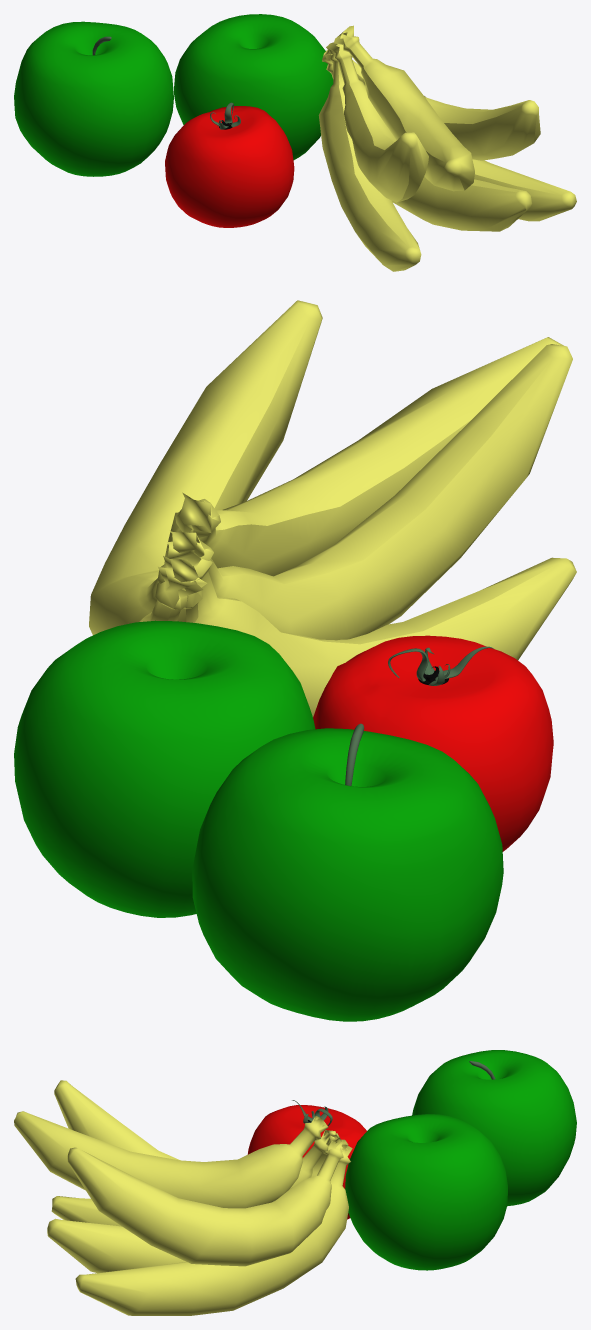
File: fruitAndvegetable.fbx
The picture shows the model from 3 angles, top to bottom: view 1: azimuth 30°, elevation 25°; view 2: azimuth 150°, elevation 25°; view 3: azimuth 270°, elevation 25°; orthographic projection. The views are drawn at different scales.
Visible parts, largest first — view 1: Sphere07, Sphere06, tomatos, banan07, banan11, banan05, banan10, banan08, banan09; view 2: Sphere07, Sphere06, banan05, tomatos, banan08, banan11, banan07, banan09; view 3: Sphere06, banan08, Sphere07, banan09, banan11, banan10, banan05, tomatos, banan07.
Part boxes in pixels (x1,y1,x2,y2): Sphere07: (14,21,173,176); Sphere06: (174,14,333,159); tomatos: (165,106,294,227); banan07: (318,46,421,271); banan11: (334,25,474,191); banan05: (327,42,428,202); banan10: (322,54,531,231); banan08: (324,49,540,160); banan09: (322,50,576,221); Sphere07: (192,728,503,1021); Sphere06: (14,620,315,917); banan05: (170,344,572,640); tomatos: (313,635,553,851); banan08: (89,300,322,635); banan11: (164,337,563,576); banan07: (167,541,576,716); banan09: (139,566,203,621); Sphere06: (345,1114,507,1270); banan08: (67,1139,348,1266); Sphere07: (412,1050,576,1206); banan09: (75,1144,352,1315); banan11: (14,1111,328,1208); banan10: (47,1146,347,1273); banan05: (54,1080,337,1202); tomatos: (247,1105,366,1219); banan07: (51,1133,341,1226).
Bounding box in the file's own units: 26.13 × 11.63 × 36.03.
